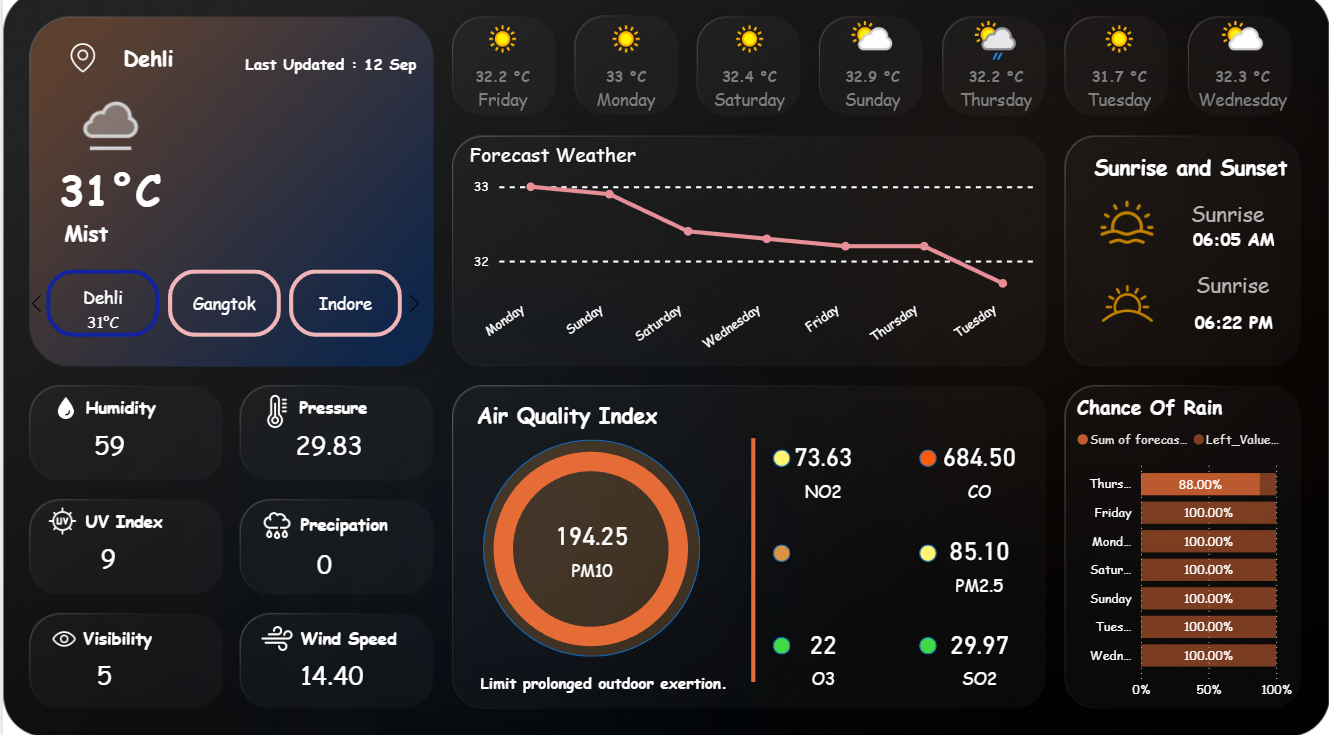

What the dashboard file says about the page in this screenshot:
{"tool":"powerbi","page":{"name":"Page 1","canvas":[1280,720],"ordinal":0},"visuals":[{"type":"shape","box":[463.4,432.4,209.7,209.7],"z":0},{"type":"advancedSlicerVisual","fields":{"Values":["Location.location.name"]},"box":[16.8,263.1,396,75.6],"z":1000},{"type":"cardVisual","fields":{"Data":["Sum(Current.current.humidity)"]},"box":[71.7,396.1,101.4,73.3],"z":2000},{"type":"shape","box":[28,160.9,151.1,61.6],"z":3000},{"type":"shape","box":[58.8,201.5,205.7,61.6],"z":4000},{"type":"shape","box":[81.2,39.2,118.9,49],"z":5000},{"type":"image","box":[49,44.8,54.6,37.8],"z":6000},{"type":"shape","box":[230.9,39.2,172.1,61.6],"z":7000},{"type":"cardVisual","fields":{"Data":["Min(Current.current.condition.icon)"]},"box":[49,64.4,124.5,123.1],"z":8000},{"type":"image","box":[44.8,382,32.2,39.2],"z":9000},{"type":"image","box":[243.5,382,42,44.8],"z":10000},{"type":"image","box":[39.2,484.1,37.8,53.2],"z":11000},{"type":"image","box":[40.6,598.9,36.4,51.8],"z":12000},{"type":"image","box":[243.5,598.9,42,51.8],"z":13000},{"type":"image","box":[243.5,488.3,42,53.2],"z":14000},{"type":"image","box":[1047.3,191.6,75.1,60.8],"z":15000},{"type":"image","box":[1043.4,262.8,82.8,75.1],"z":16000},{"type":"shape","box":[79.8,370.8,82.6,61.6],"z":17000},{"type":"shape","box":[285.4,370.8,96.5,61.6],"z":18000},{"type":"shape","box":[286.8,488.3,96.5,51.8],"z":19000},{"type":"shape","box":[79.8,479.9,96.5,61.6],"z":20000},{"type":"shape","box":[286.8,593.3,96.5,61.6],"z":21000},{"type":"shape","box":[77,593.3,96.5,61.6],"z":22000},{"type":"cardVisual","fields":{"Data":["Sum(Current.current.precip_mm)"]},"box":[285.4,509.9,81.1,74.9],"z":23000},{"type":"cardVisual","fields":{"Data":["Sum(Current.current.uv)"]},"box":[77,503.7,71.4,75.6],"z":24000},{"type":"cardVisual","fields":{"Data":["Sum(Current.current.vis_km)"]},"box":[73.3,617.5,88.9,73.3],"z":25000},{"type":"cardVisual","fields":{"Data":["Sum(Current.current.wind_kph)"]},"box":[269.8,617.5,96.7,74.9],"z":26000},{"type":"cardVisual","fields":{"Data":["Sum(Current.current.pressure_in)"]},"box":[265.1,396.1,117,73.3],"z":27000},{"type":"advancedSlicerVisual","fields":{"Values":["Forecast_Day.Day_Name"]},"box":[402.3,9.4,878,117],"z":28000},{"type":"lineChart","title":"Forecast Weather","fields":{"Category":["Forecast_Day.Day_Name"],"Y":["Forecast_Day.avg"]},"box":[445.3,143.7,555.3,216.2],"z":29000},{"type":"shape","box":[1043.4,143.7,205.8,49.2],"z":30000},{"type":"shape","box":[1126.2,195.5,110,36.2],"z":31000},{"type":"shape","box":[1126.2,222.7,121.7,29.8],"z":32000},{"type":"shape","box":[1134,300.3,107.4,36.2],"z":33000},{"type":"shape","box":[1131.4,264.1,110,36.2],"z":34000},{"type":"hundredPercentStackedBarChart","title":"Chance Of Rain","fields":{"Category":["Forecast_Day.Day_Name"],"Y":["Sum(Forecast_Day.forecast.forecastday.day.daily_chance_of_rain)","_Measure.Left_Value_Rain1"]},"box":[1031.7,385.8,217.5,306.8],"z":35000},{"type":"cardVisual","fields":{"Data":["Sum(Current.current.air_quality.co)"]},"box":[884.1,418.1,116.5,79],"z":36000},{"type":"cardVisual","fields":{"Data":["Sum(Current.current.air_quality.pm2_5)"]},"box":[884.1,508.7,116.5,79],"z":37000},{"type":"cardVisual","fields":{"Data":["Sum(Current.current.air_quality.so2)"]},"box":[884.1,599.4,116.5,79],"z":38000},{"type":"cardVisual","fields":{"Data":["Sum(Current.current.air_quality.no2)"]},"box":[734,418.1,116.5,79],"z":39000},{"type":"cardVisual","fields":{"Data":["Sum(Current.current.air_quality.pm10)"]},"box":[510,494.5,116.5,79],"z":40000},{"type":"cardVisual","fields":{"Data":["Sum(Current.current.air_quality.o3)"]},"box":[734,599.4,116.5,79],"z":41000},{"type":"shape","box":[743,441.4,16.8,16.8],"z":42000},{"type":"shape","box":[884.1,441.4,16.8,16.8],"z":43000},{"type":"shape","box":[743,533.3,16.8,16.8],"z":44000},{"type":"shape","box":[884.1,533.3,16.8,16.8],"z":45000},{"type":"shape","box":[743,622.7,16.8,16.8],"z":46000},{"type":"shape","box":[884.1,622.7,16.8,16.8],"z":47000},{"type":"shape","box":[648.5,431.1,150.2,235.6],"z":48000},{"type":"donutChart","fields":{"Y":["Sum(Current.current.air_quality.pm10)"]},"box":[445.3,381.9,244.7,310.7],"z":49000},{"type":"shape","box":[450.5,383.2,189,49.2],"z":50000},{"type":"shape","box":[450.5,635.6,260.2,62.1],"z":51000}]}

Visuals, with their boxes in screenshot pixels (x1, y1, x2, y2), scaled from the page's 1280x720 canvas onto the 1330x735 screenshot:
shape: (x1=482, y1=441, x2=699, y2=655)
advancedSlicerVisual - Location.location.name: (x1=17, y1=269, x2=429, y2=346)
cardVisual - Sum(Current.current.humidity): (x1=75, y1=404, x2=180, y2=479)
shape: (x1=29, y1=164, x2=186, y2=227)
shape: (x1=61, y1=206, x2=275, y2=269)
shape: (x1=84, y1=40, x2=208, y2=90)
image: (x1=51, y1=46, x2=108, y2=84)
shape: (x1=240, y1=40, x2=419, y2=103)
cardVisual - Min(Current.current.condition.icon): (x1=51, y1=66, x2=180, y2=191)
image: (x1=47, y1=390, x2=80, y2=430)
image: (x1=253, y1=390, x2=297, y2=436)
image: (x1=41, y1=494, x2=80, y2=548)
image: (x1=42, y1=611, x2=80, y2=664)
image: (x1=253, y1=611, x2=297, y2=664)
image: (x1=253, y1=498, x2=297, y2=553)
image: (x1=1088, y1=196, x2=1166, y2=258)
image: (x1=1084, y1=268, x2=1170, y2=345)
shape: (x1=83, y1=379, x2=169, y2=441)
shape: (x1=297, y1=379, x2=397, y2=441)
shape: (x1=298, y1=498, x2=398, y2=551)
shape: (x1=83, y1=490, x2=183, y2=553)
shape: (x1=298, y1=606, x2=398, y2=669)
shape: (x1=80, y1=606, x2=180, y2=669)
cardVisual - Sum(Current.current.precip_mm): (x1=297, y1=521, x2=381, y2=597)
cardVisual - Sum(Current.current.uv): (x1=80, y1=514, x2=154, y2=591)
cardVisual - Sum(Current.current.vis_km): (x1=76, y1=630, x2=169, y2=705)
cardVisual - Sum(Current.current.wind_kph): (x1=280, y1=630, x2=381, y2=707)
cardVisual - Sum(Current.current.pressure_in): (x1=275, y1=404, x2=397, y2=479)
advancedSlicerVisual - Forecast_Day.Day_Name: (x1=418, y1=10, x2=1329, y2=129)
"Forecast Weather" lineChart: (x1=463, y1=147, x2=1040, y2=367)
shape: (x1=1084, y1=147, x2=1298, y2=197)
shape: (x1=1170, y1=200, x2=1284, y2=237)
shape: (x1=1170, y1=227, x2=1297, y2=258)
shape: (x1=1178, y1=307, x2=1290, y2=344)
shape: (x1=1176, y1=270, x2=1290, y2=307)
"Chance Of Rain" hundredPercentStackedBarChart: (x1=1072, y1=394, x2=1298, y2=707)
cardVisual - Sum(Current.current.air_quality.co): (x1=919, y1=427, x2=1040, y2=507)
cardVisual - Sum(Current.current.air_quality.pm2_5): (x1=919, y1=519, x2=1040, y2=600)
cardVisual - Sum(Current.current.air_quality.so2): (x1=919, y1=612, x2=1040, y2=693)
cardVisual - Sum(Current.current.air_quality.no2): (x1=763, y1=427, x2=884, y2=507)
cardVisual - Sum(Current.current.air_quality.pm10): (x1=530, y1=505, x2=651, y2=585)
cardVisual - Sum(Current.current.air_quality.o3): (x1=763, y1=612, x2=884, y2=693)
shape: (x1=772, y1=451, x2=789, y2=468)
shape: (x1=919, y1=451, x2=936, y2=468)
shape: (x1=772, y1=544, x2=789, y2=562)
shape: (x1=919, y1=544, x2=936, y2=562)
shape: (x1=772, y1=636, x2=789, y2=653)
shape: (x1=919, y1=636, x2=936, y2=653)
shape: (x1=674, y1=440, x2=830, y2=681)
donutChart - Sum(Current.current.air_quality.pm10): (x1=463, y1=390, x2=717, y2=707)
shape: (x1=468, y1=391, x2=664, y2=441)
shape: (x1=468, y1=649, x2=738, y2=712)
